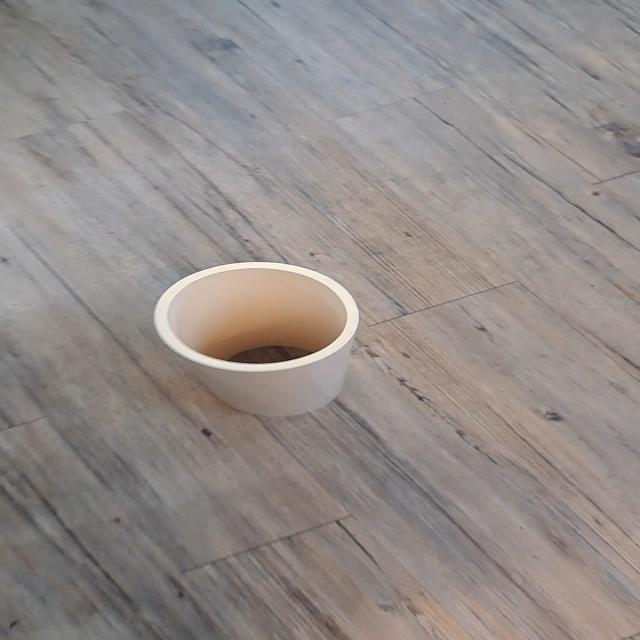CORAL: (131, 247, 402, 433)
